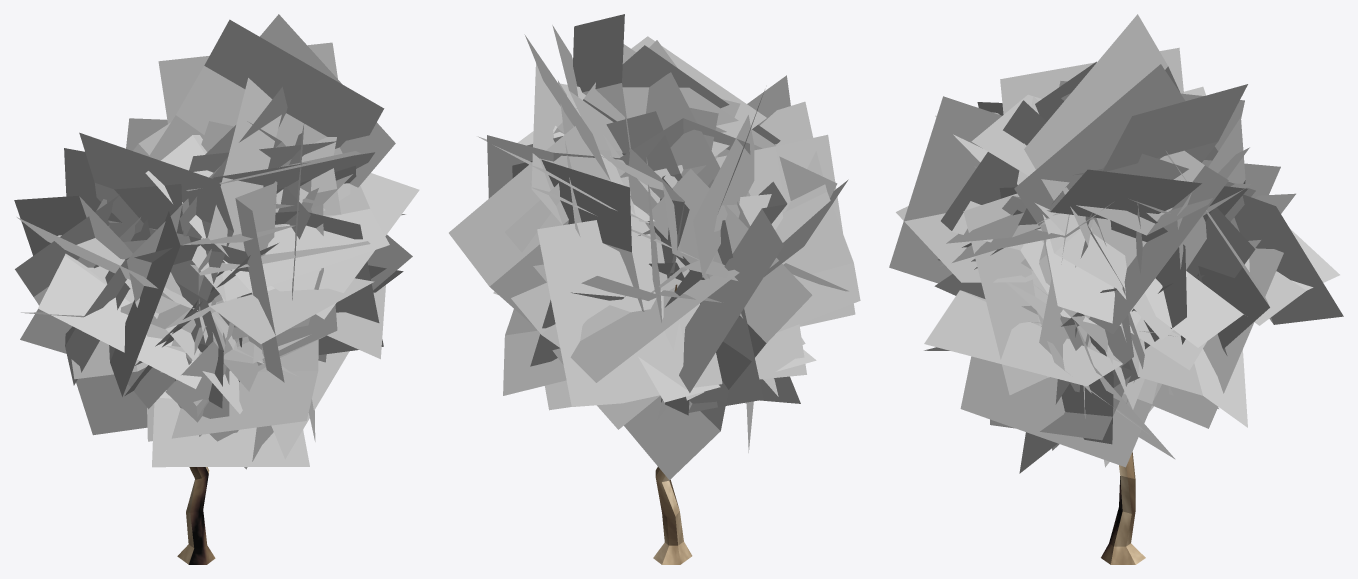
The model's file is Tree.obj.
The picture shows the model from 3 angles, left to right: view 1: azimuth 30°, elevation 25°; view 2: azimuth 150°, elevation 25°; view 3: azimuth 270°, elevation 25°; orthographic projection. The views are drawn at different scales.
Visible parts, largest first — view 1: Tree_Branch, Cube; view 2: Tree_Branch, Cube; view 3: Tree_Branch, Cube.
Boxes of the visible parts, x1,y1,x2,y2 form: Tree_Branch: [14, 14, 419, 469]; Cube: [177, 467, 215, 564]; Tree_Branch: [449, 14, 860, 480]; Cube: [653, 284, 692, 564]; Tree_Branch: [889, 14, 1343, 473]; Cube: [1101, 452, 1145, 564].
Size of the model in its own units: 27.08 by 37.31 by 27.22.
